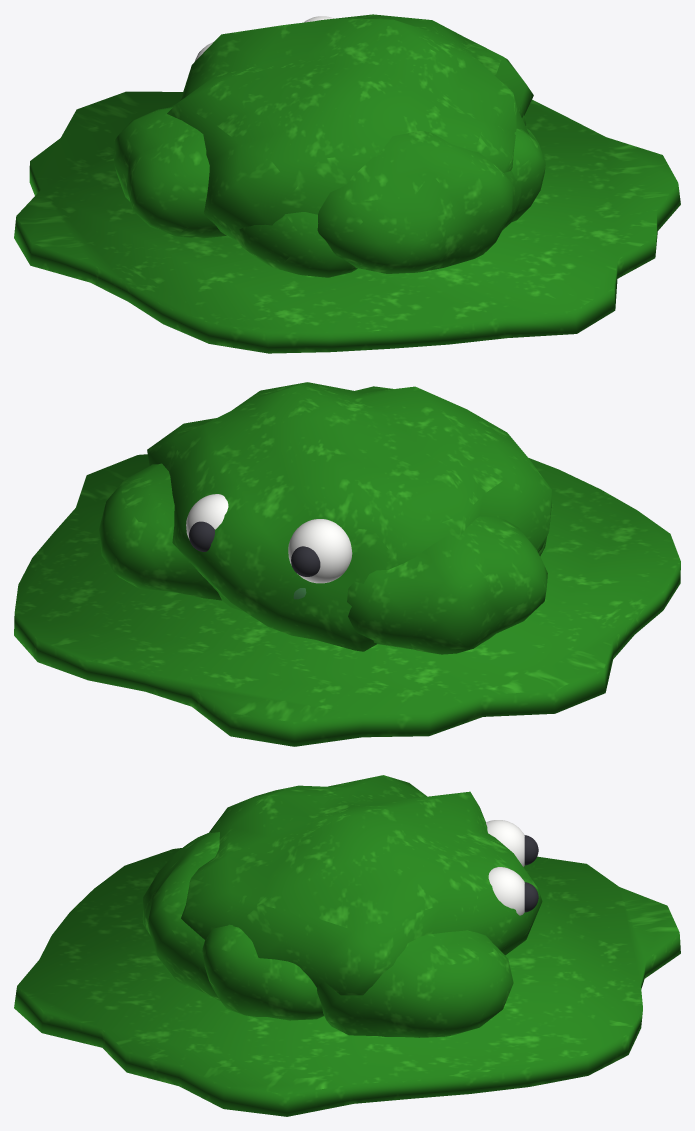
File: kale_slime.glb
3 renders of one model, top to bottom at view 1: azimuth 30°, elevation 25°; view 2: azimuth 150°, elevation 25°; view 3: azimuth 270°, elevation 25°, orthographic. The views are drawn at different scales.
Parts seen in each view (by area): view 1: Cylinder, Icosphere, Icosphere.003, Icosphere.001, Icosphere.004, Icosphere.005; view 2: Cylinder, Icosphere, Icosphere.001, Icosphere.002, Sphere, Sphere.002, Sphere.001, Sphere.003; view 3: Cylinder, Icosphere, Icosphere.002, Icosphere.005, Icosphere.003, Sphere.002, Sphere.
Part boxes in pixels (x1,y1,x2,y2): Cylinder: (14,91,680,353); Icosphere: (167,14,533,239); Icosphere.003: (317,131,521,273); Icosphere.001: (114,103,226,238); Icosphere.004: (230,212,357,277); Icosphere.005: (511,128,545,221); Cylinder: (14,454,680,746); Icosphere: (147,382,551,651); Icosphere.001: (347,516,547,654); Icosphere.002: (99,463,221,600); Sphere: (288,519,352,583); Sphere.002: (186,494,228,539); Sphere.001: (291,546,320,576); Sphere.003: (189,521,214,551); Cylinder: (14,848,680,1116); Icosphere: (181,775,542,995); Icosphere.002: (317,930,513,1037); Icosphere.005: (202,924,323,1020); Icosphere.003: (143,832,220,1000); Sphere.002: (488,867,524,915); Sphere: (486,820,524,866).
Bounding box in the file's own units: 2.32 × 0.819 × 2.4.
Materials: 4 (1 with a texture image).
